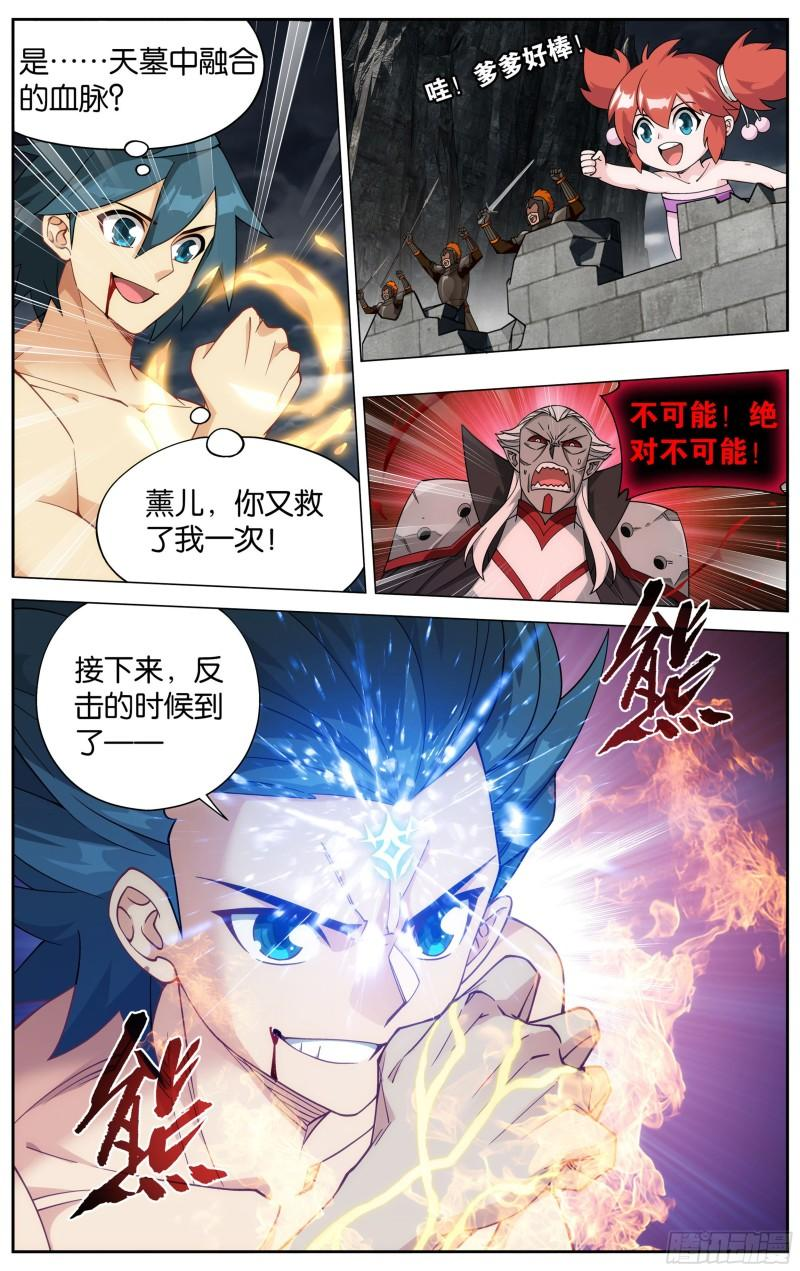boxBad: (597, 371, 786, 505)
boxEllipse: (33, 604, 258, 817)
boxThink: (93, 401, 363, 591), (9, 17, 267, 176)
minBox: (6, 598, 786, 1255), (8, 17, 362, 592), (336, 17, 786, 359), (360, 368, 786, 613)
